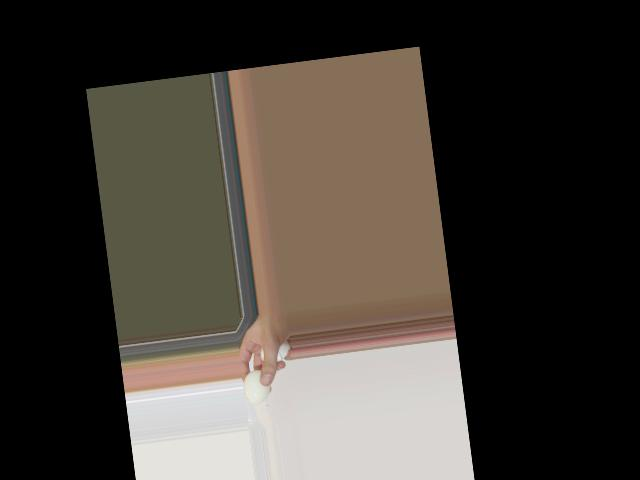egg: (241, 368, 273, 405)
